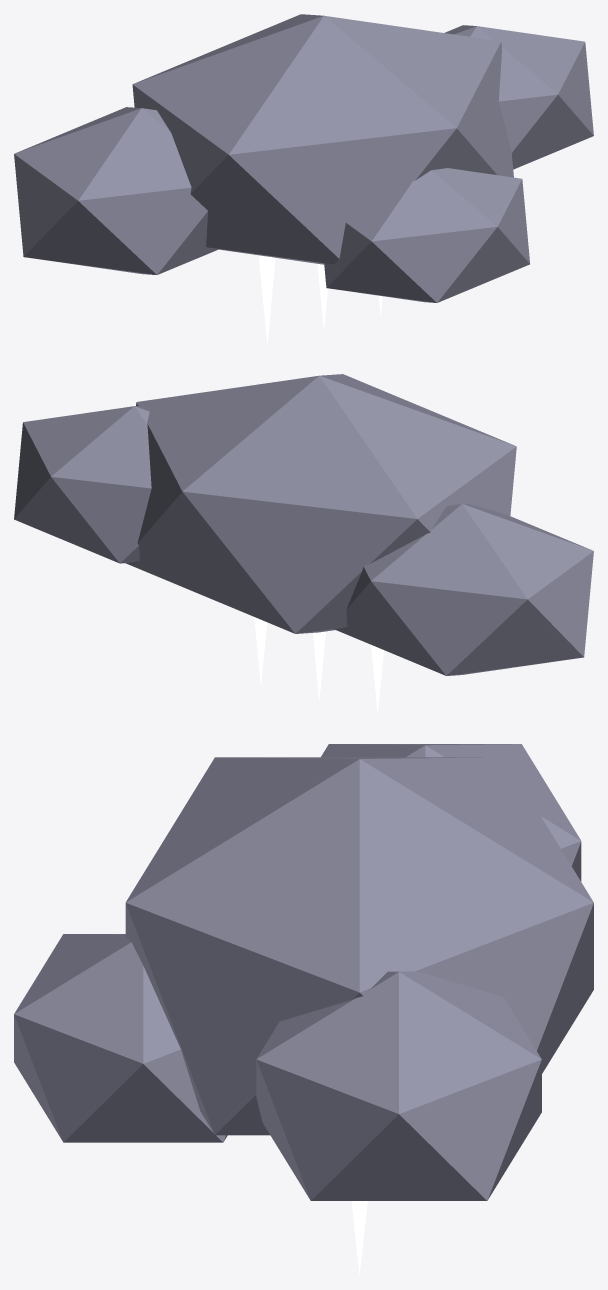
Rendered from cloud_storm.glb.
The picture shows the model from 3 angles, top to bottom: view 1: azimuth 30°, elevation 25°; view 2: azimuth 150°, elevation 25°; view 3: azimuth 270°, elevation 25°; orthographic projection. The views are drawn at different scales.
Visible parts, largest first — view 1: StormPuff0, StormPuff1, StormPuff3, StormPuff2, StormBolt0; view 2: StormPuff0, StormPuff1, StormPuff2, StormBolt1, StormBolt0, StormBolt2; view 3: StormPuff0, StormPuff2, StormPuff3, StormPuff1.
Part boxes in pixels (x1=…): StormPuff0: x1=132, y1=14, x2=513, y2=264; StormPuff1: x1=14, y1=107, x2=218, y2=274; StormPuff3: x1=324, y1=168, x2=529, y2=302; StormPuff2: x1=445, y1=25, x2=593, y2=169; StormBolt0: x1=258, y1=255, x2=275, y2=345; StormPuff0: x1=125, y1=374, x2=516, y2=633; StormPuff1: x1=334, y1=503, x2=593, y2=675; StormPuff2: x1=14, y1=406, x2=151, y2=563; StormBolt1: x1=313, y1=631, x2=325, y2=699; StormBolt0: x1=371, y1=645, x2=383, y2=714; StormBolt2: x1=254, y1=617, x2=267, y2=686; StormPuff0: x1=125, y1=757, x2=593, y2=1135; StormPuff2: x1=256, y1=971, x2=541, y2=1200; StormPuff3: x1=14, y1=934, x2=227, y2=1142; StormPuff1: x1=321, y1=744, x2=581, y2=881.
Size of the model in its own units: 2.93 by 1.6 by 1.77.
